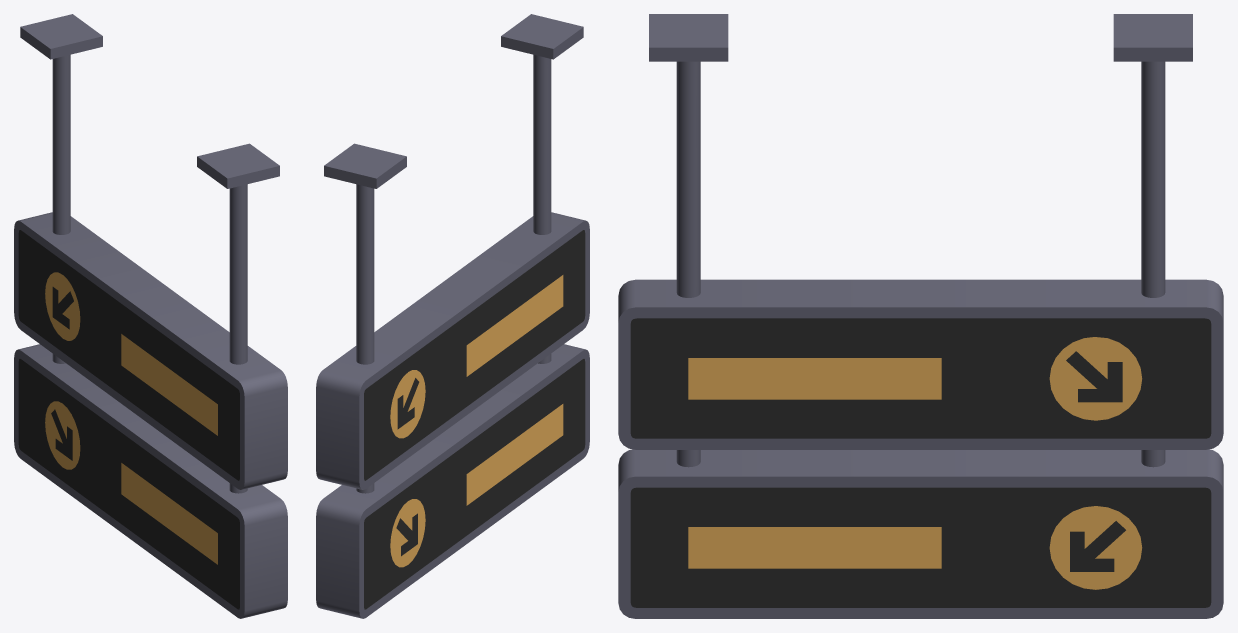
File: airport_sign.glb
The picture shows the model from 3 angles, left to right: view 1: azimuth 30°, elevation 25°; view 2: azimuth 150°, elevation 25°; view 3: azimuth 270°, elevation 25°; orthographic projection. The views are drawn at different scales.
Parts seen in each view (by area): view 1: 17.1.Model; view 2: 17.1.Model; view 3: 17.1.Model.
Boxes of the visible parts, <box> form: 17.1.Model: <box>14,14,287,618</box>; 17.1.Model: <box>316,14,589,618</box>; 17.1.Model: <box>618,14,1223,618</box>.
Size of what is drawn, in the model's own units: 0.2131 by 1.69 by 1.62.
Materials: 1 (1 with a texture image).
